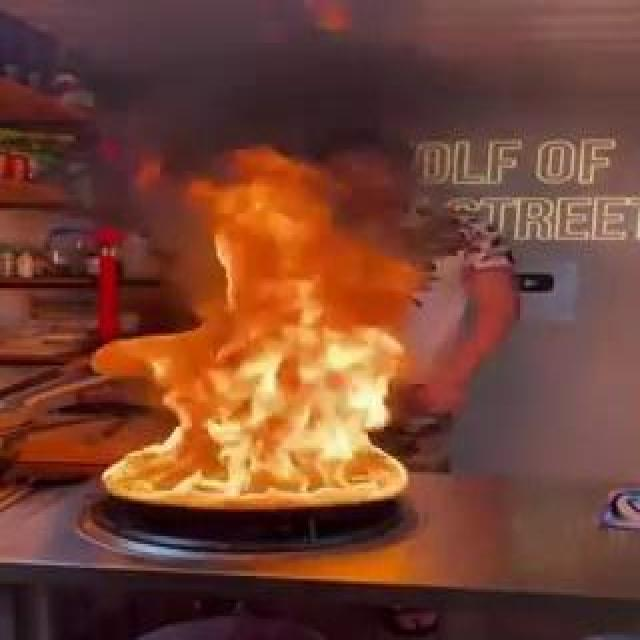Fire: (261, 320, 360, 356)
